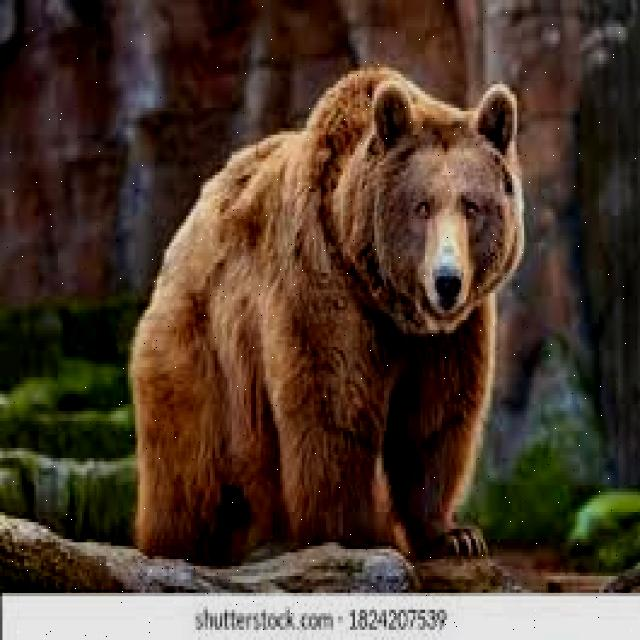bear: (150, 63, 557, 526)
